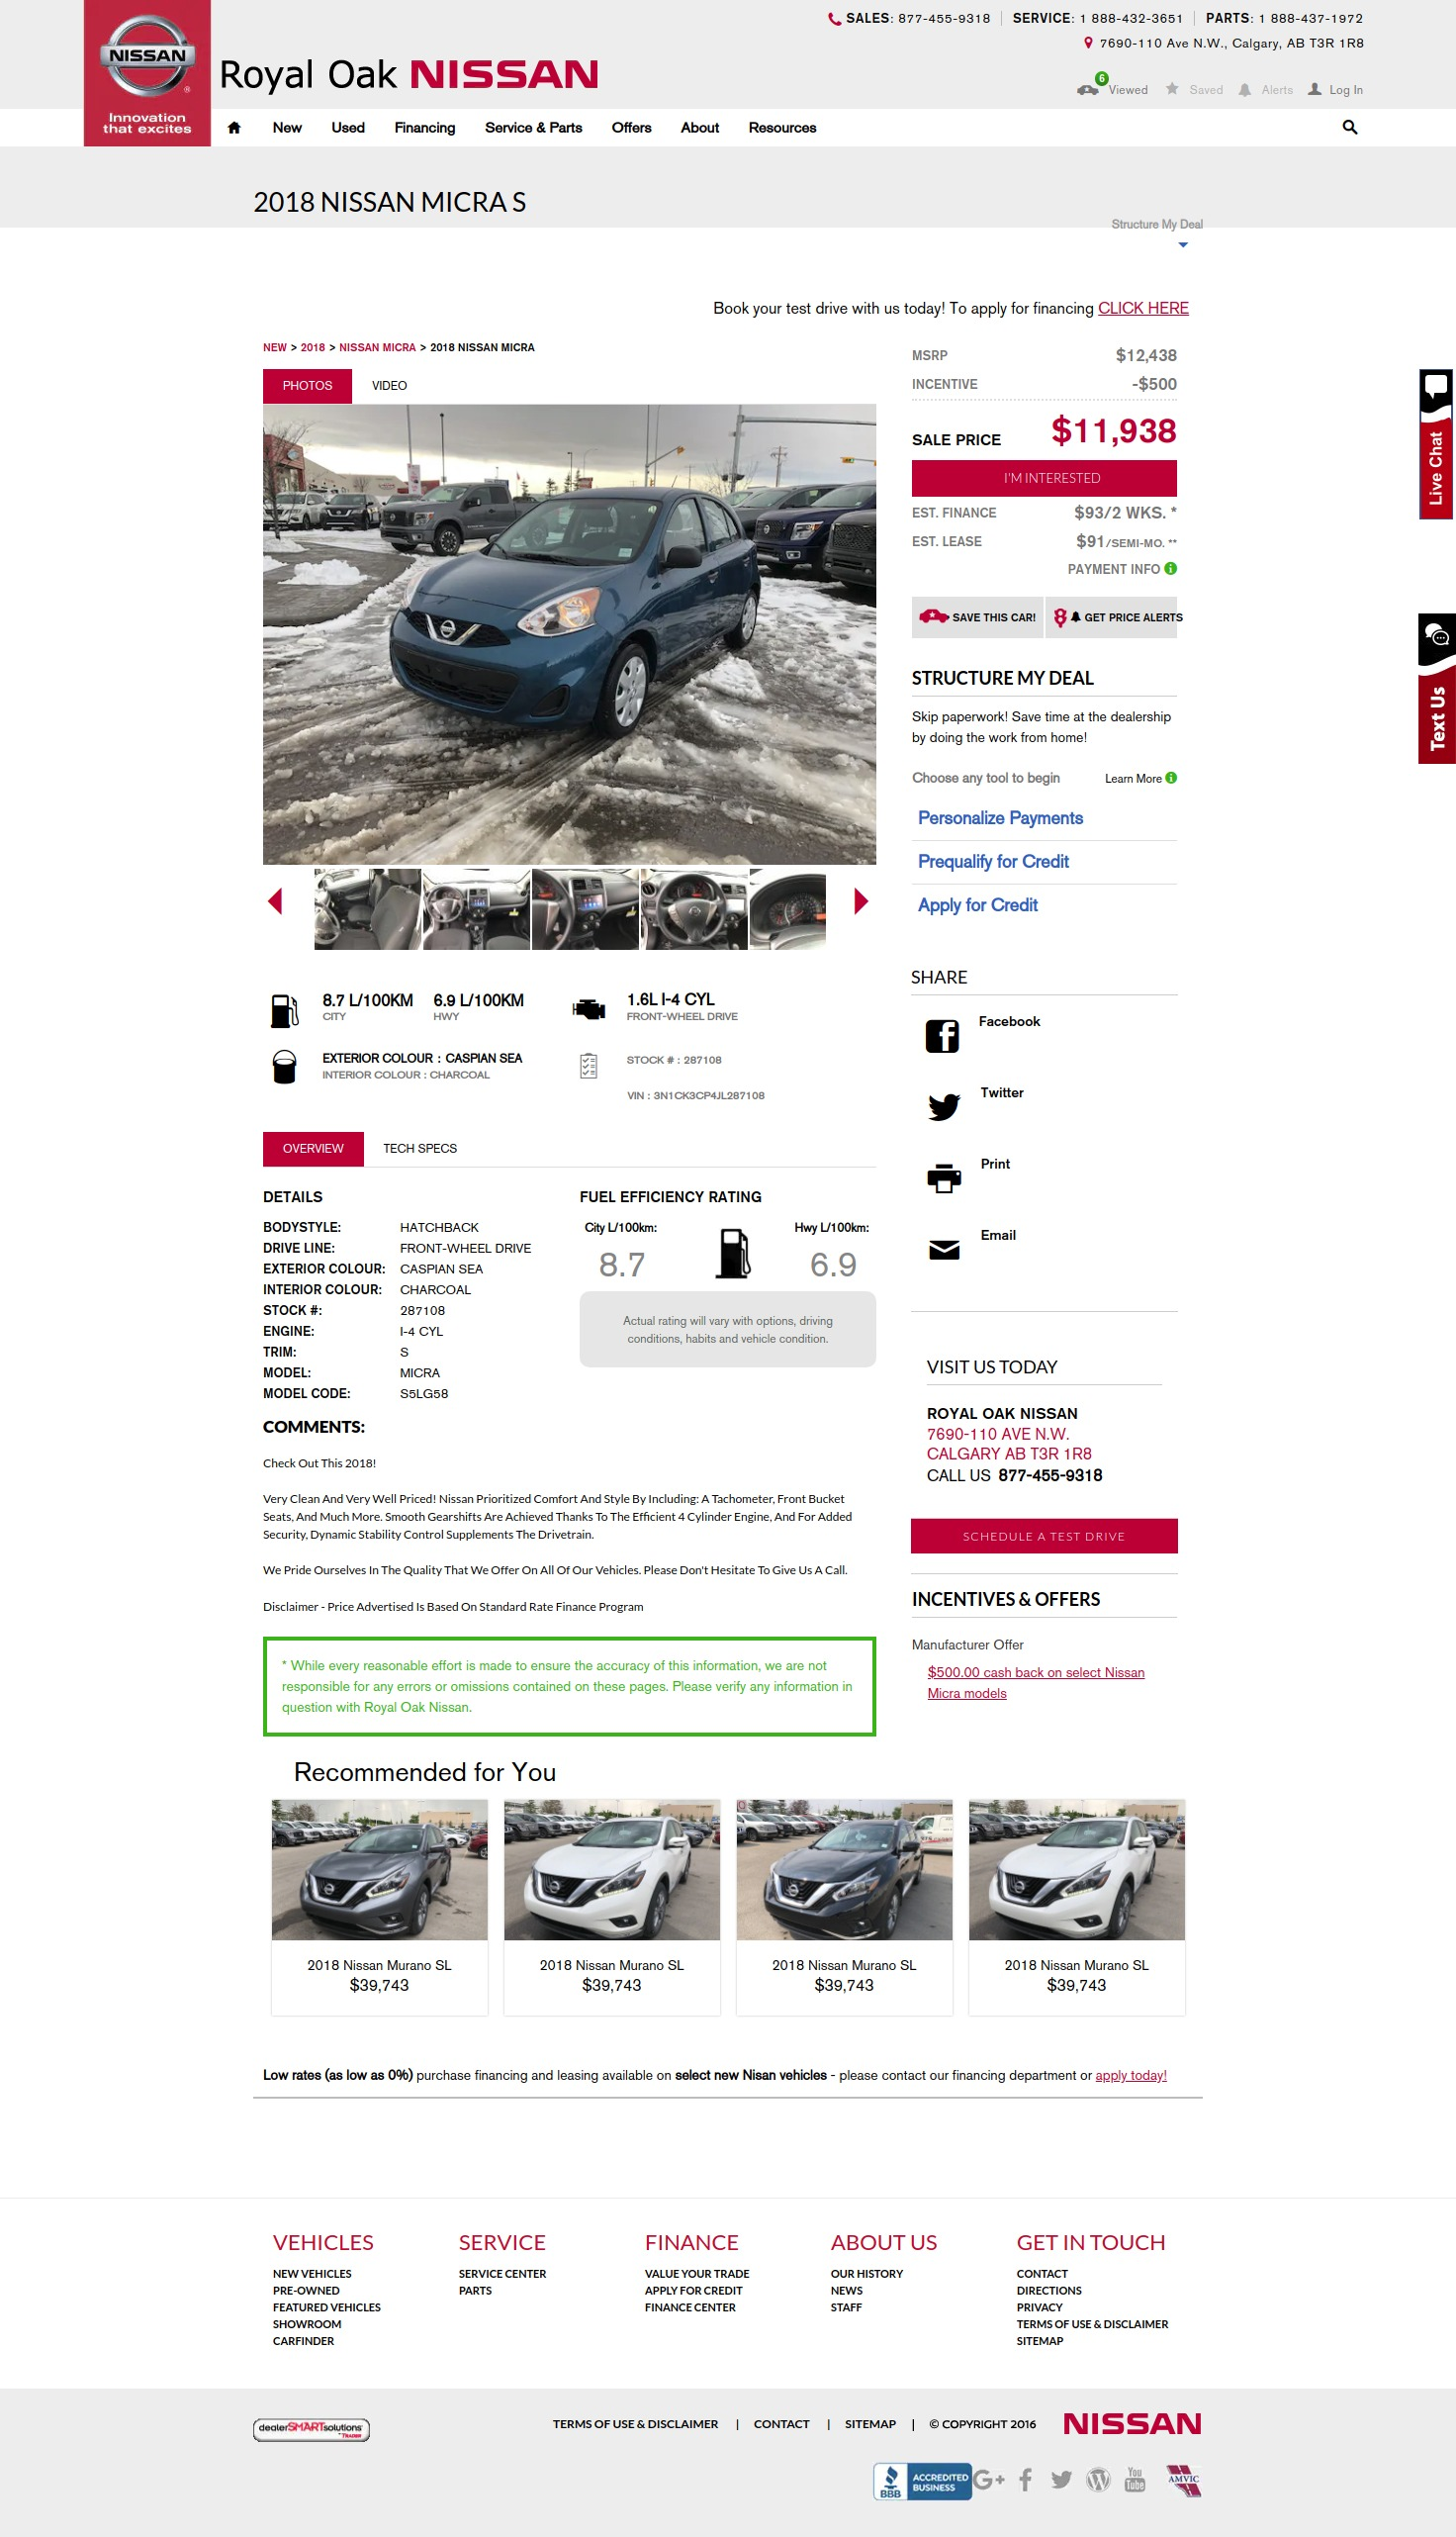car: (855, 889, 869, 917)
